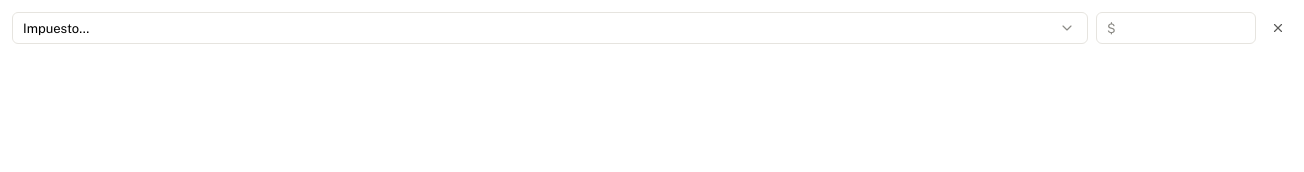
Test: FilasImpuestos › tipeado a mano queda fijo y se puede volver al calculado
Later steps or results of the test are not shown.
Select "IVA 21 · 21 %" in the dropdown named "Impuesto": (550, 28) [12, 12, 1088, 44]
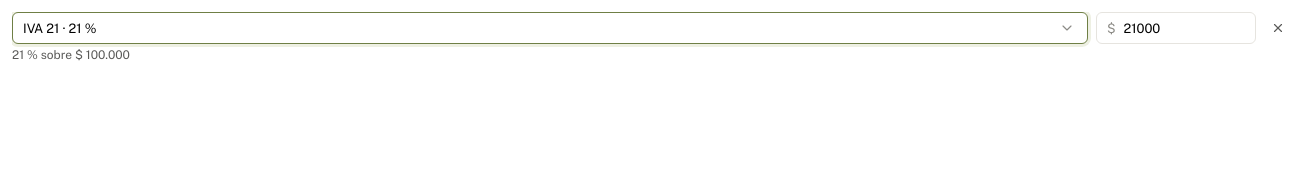
Replace the text in the number field named "Monto del impuesto" with "20999.5": (1184, 28) [1124, 13, 1245, 43]
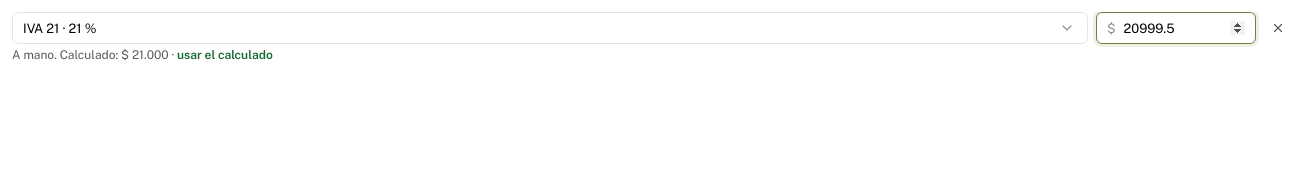
Check: the text "A mano. Calculado: $ 21.000 · usar el calculado" is shown, box [12, 48, 273, 62]
